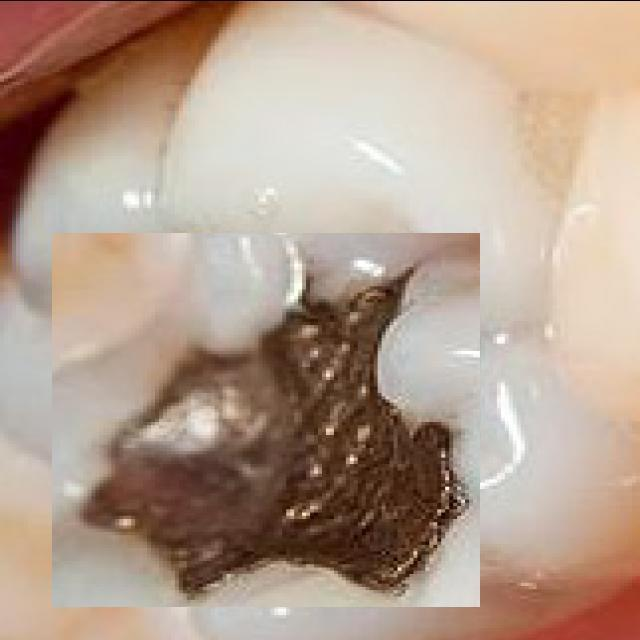decay: (52, 232, 480, 606)
